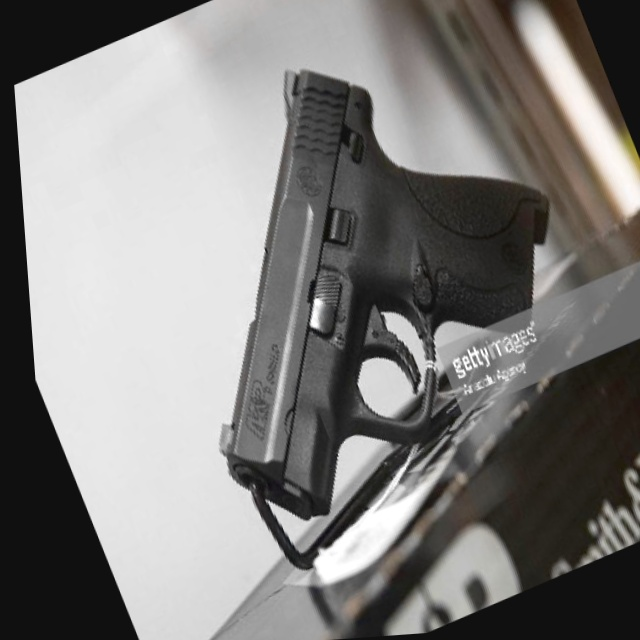gun: (80, 0, 631, 553)
